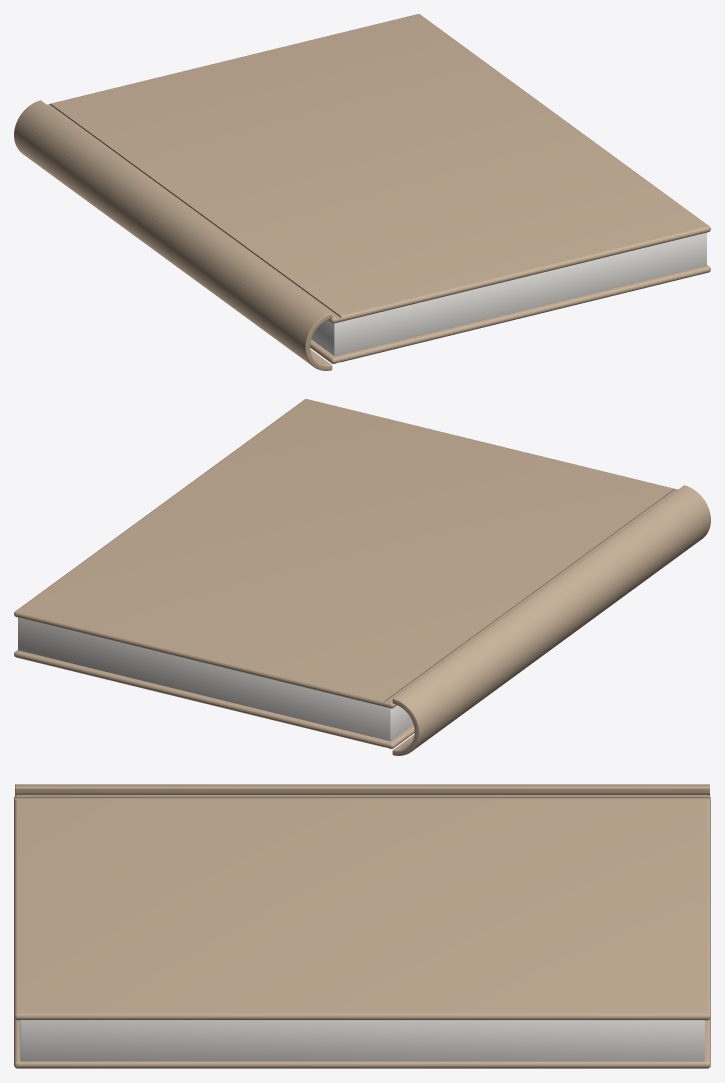
Rendered from print--portrait.glb.
3 renders of one model, top to bottom at view 1: azimuth 30°, elevation 25°; view 2: azimuth 150°, elevation 25°; view 3: azimuth 270°, elevation 25°, orthographic. The views are drawn at different scales.
Visible parts, largest first — view 1: CoverFront, Spine, Pages, CoverBack; view 2: CoverFront, Spine, Pages, CoverBack; view 3: CoverFront, Pages, Spine, CoverBack.
Part boxes in pixels (left/top/right/bottom): CoverFront: left=47, top=14, right=710, bottom=323; Spine: left=14, top=100, right=332, bottom=370; Pages: left=311, top=232, right=706, bottom=356; CoverBack: left=310, top=265, right=710, bottom=363; CoverFront: left=14, top=399, right=677, bottom=708; Spine: left=392, top=485, right=710, bottom=755; Pages: left=18, top=617, right=413, bottom=741; CoverBack: left=14, top=650, right=414, bottom=748; CoverFront: left=14, top=795, right=710, bottom=1020; Pages: left=20, top=1020, right=704, bottom=1061; Spine: left=15, top=784, right=709, bottom=795; CoverBack: left=14, top=1018, right=710, bottom=1068.
Size of the model in its own units: 0.3208 by 0.043 by 0.4.
